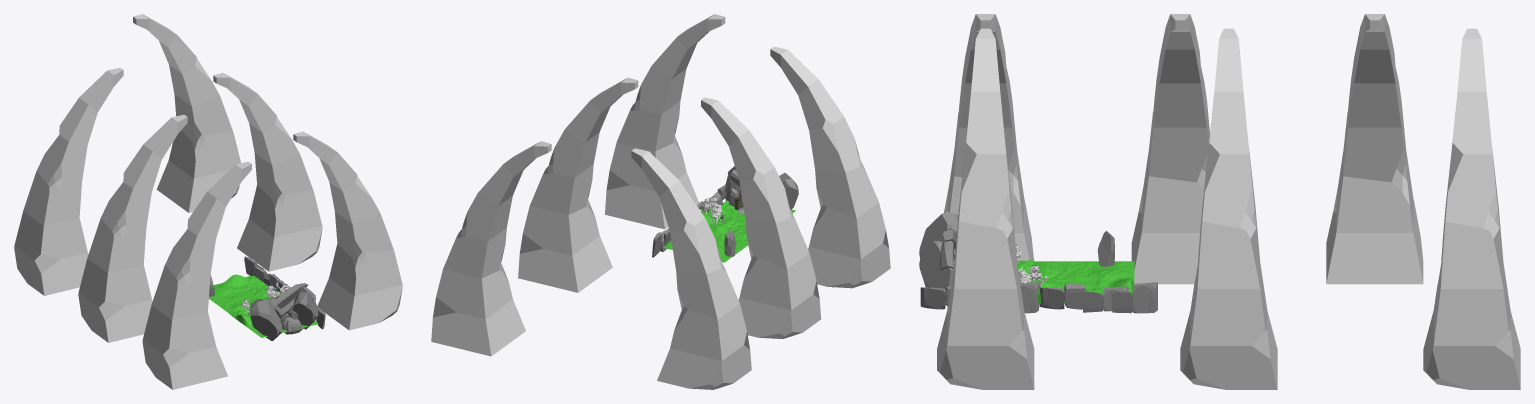
File: MAP (1).fbx
3 views of the same model, side by side, from view 1: azimuth 30°, elevation 25°; view 2: azimuth 150°, elevation 25°; view 3: azimuth 270°, elevation 25° (orthographic). The views are drawn at different scales.
Visible parts, largest first — view 1: Cube.028, Cube.029, Plane.001, Icosphere.036, Cube.034, Icosphere.035, Plane, Icosphere.037; view 2: Cube.028, Cube.029, Plane.001, Plane, Cube.034; view 3: Cube.029, Cube.028, Cube.034, Plane.001, Icosphere.035, Icosphere.036, Icosphere.045.
Boxes of the visible parts, x1=… form: Cube.028: x1=14, y1=67, x2=251, y2=389; Cube.029: x1=133, y1=14, x2=402, y2=330; Plane.001: x1=209, y1=274, x2=281, y2=313; Icosphere.036: x1=249, y1=299, x2=282, y2=340; Cube.034: x1=244, y1=256, x2=325, y2=329; Icosphere.035: x1=292, y1=292, x2=318, y2=329; Plane: x1=228, y1=292, x2=318, y2=337; Icosphere.037: x1=274, y1=283, x2=308, y2=308; Cube.028: x1=631, y1=46, x2=890, y2=389; Cube.029: x1=431, y1=14, x2=725, y2=356; Plane.001: x1=662, y1=212, x2=747, y2=262; Plane: x1=701, y1=200, x2=795, y2=231; Cube.034: x1=652, y1=184, x2=725, y2=257; Cube.029: x1=937, y1=28, x2=1520, y2=389; Cube.028: x1=944, y1=14, x2=1423, y2=284; Cube.034: x1=920, y1=282, x2=1157, y2=313; Plane.001: x1=1030, y1=260, x2=1134, y2=303; Icosphere.035: x1=919, y1=241, x2=955, y2=304; Icosphere.036: x1=919, y1=211, x2=958, y2=257; Icosphere.045: x1=1097, y1=230, x2=1114, y2=266.
Size of the model in its own units: 40587 by 34599 by 59482.
